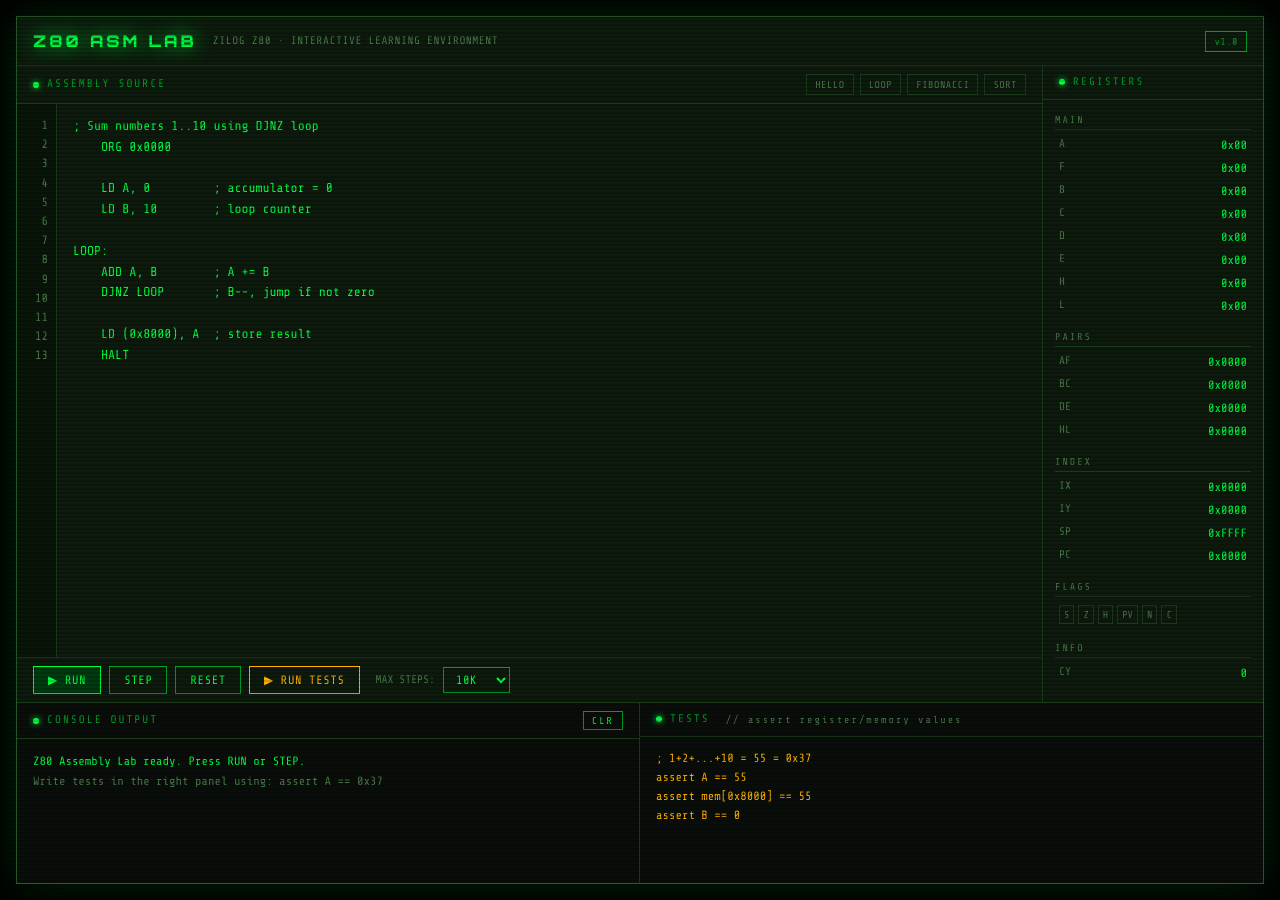
Test: App - example loaders › clicking LOOP loads the loop example
Expected: the button "LOOP" is shown, left=860, top=74, right=901, bottom=95
First load HELLO, then switch to LOOP
Click the button "HELLO" at (830, 84), box left=806, top=74, right=854, bottom=95
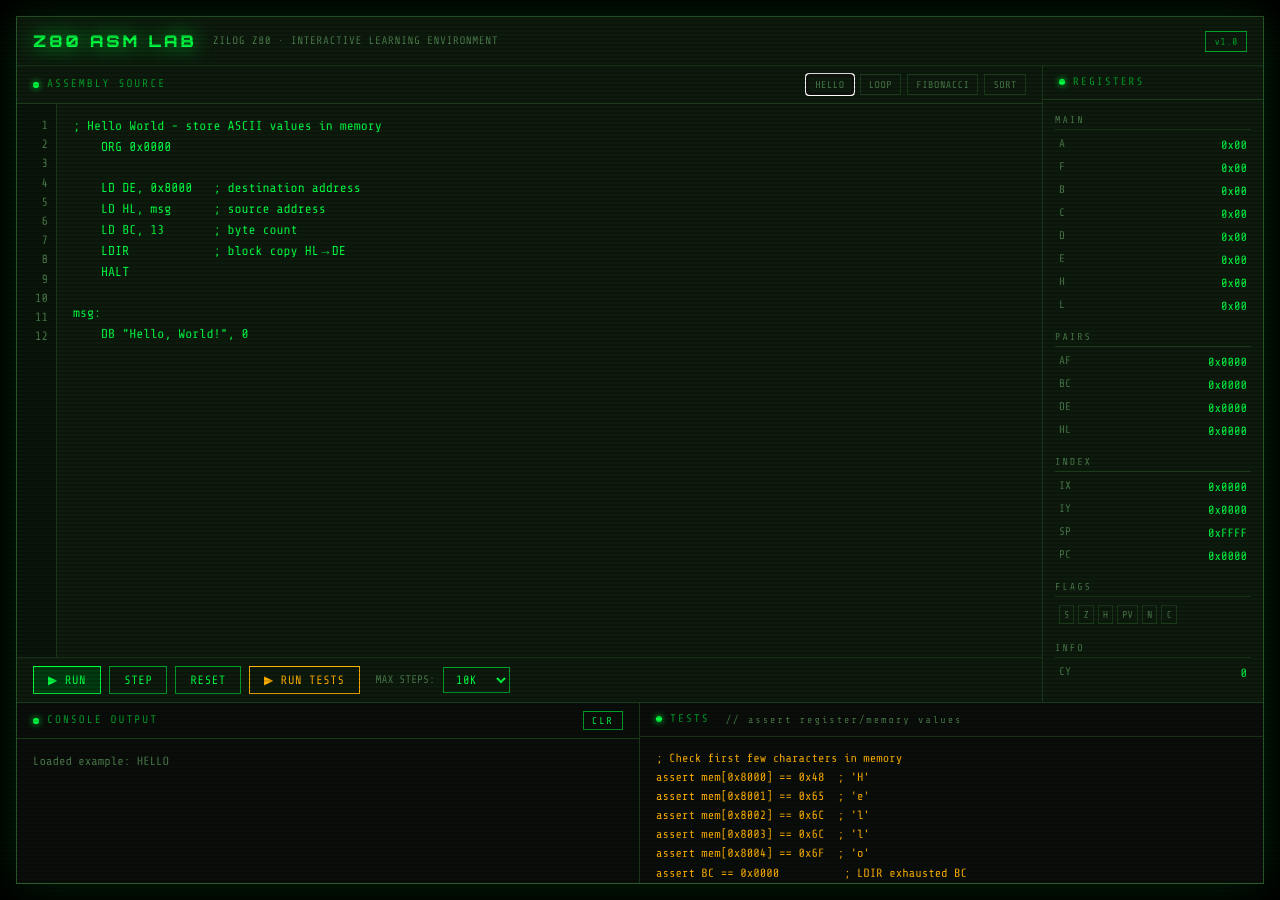
Click the button "LOOP" at (880, 84), box left=860, top=74, right=901, bottom=95
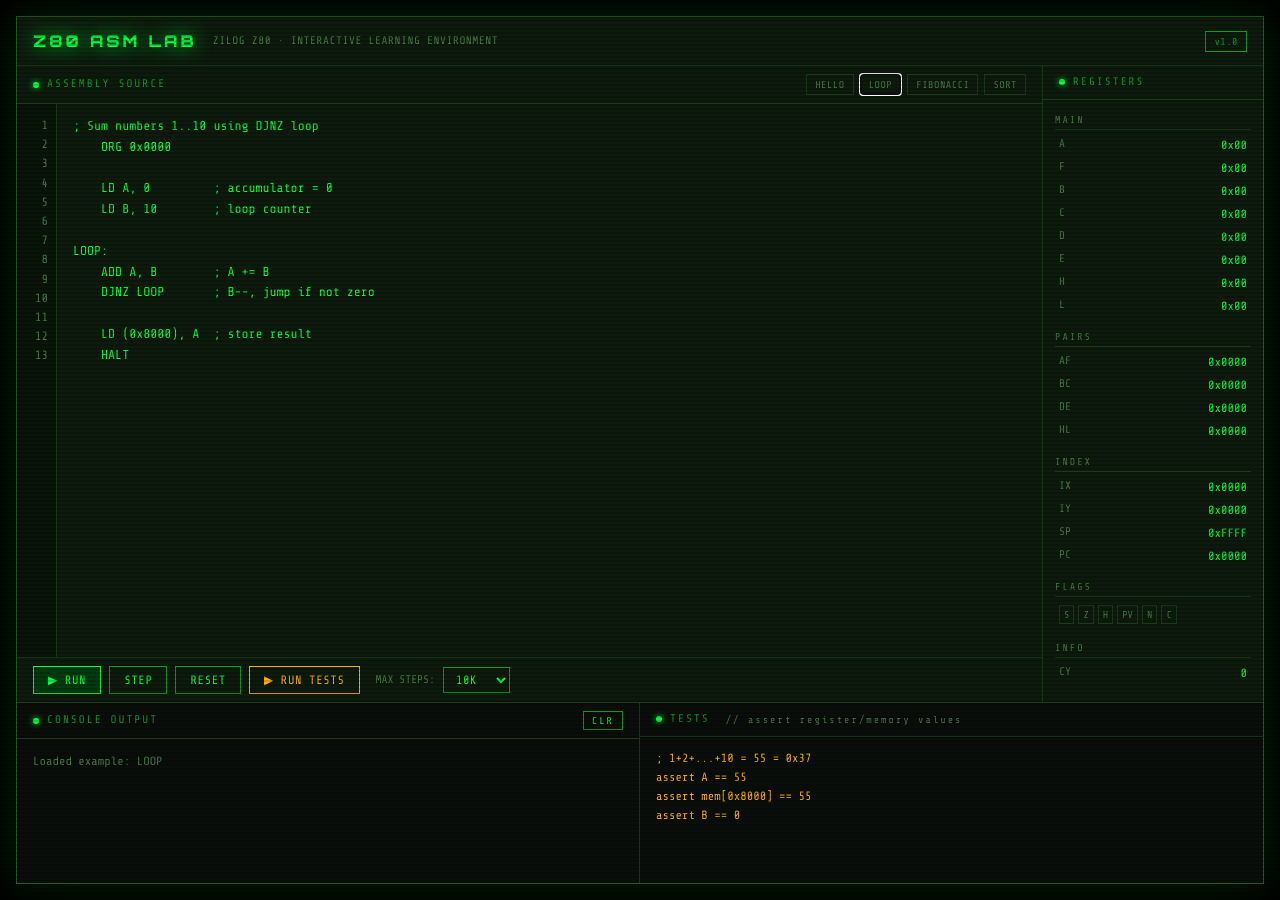
Result: the text "Loaded example: LOOP" is shown at left=33, top=754, right=163, bottom=768
